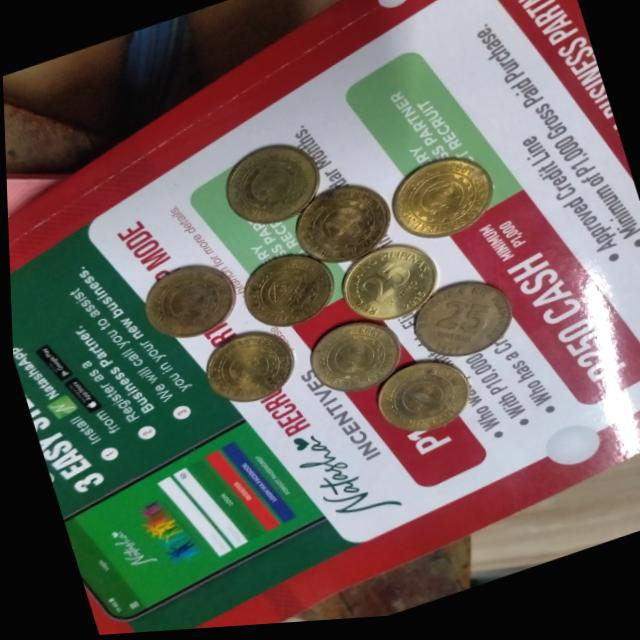25Cent_Old_Back: (382, 152, 501, 257)
25Cent_Old_Front: (348, 245, 433, 321)
